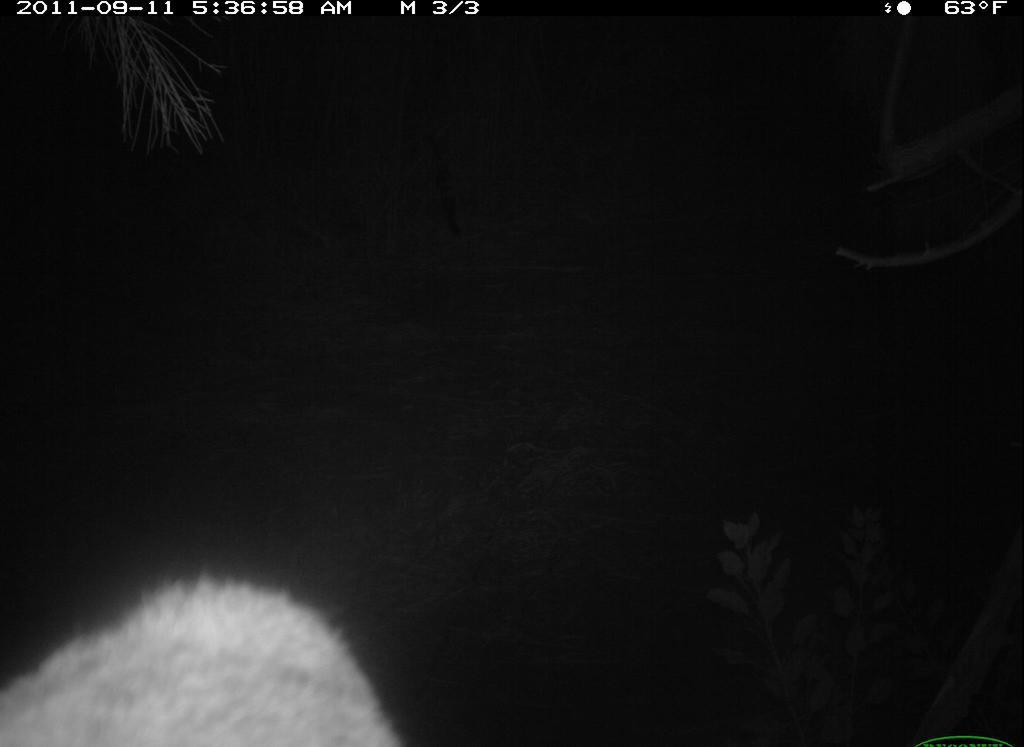bobcat: (3, 563, 413, 747)
